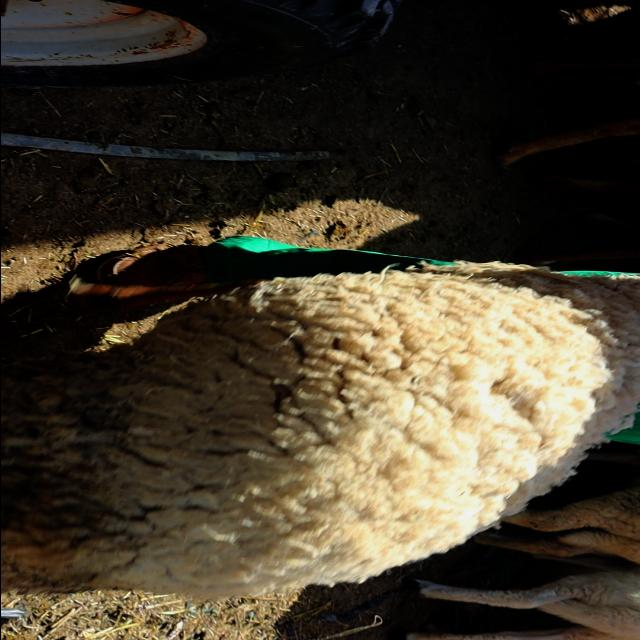Score_5: (1, 262, 640, 598)
